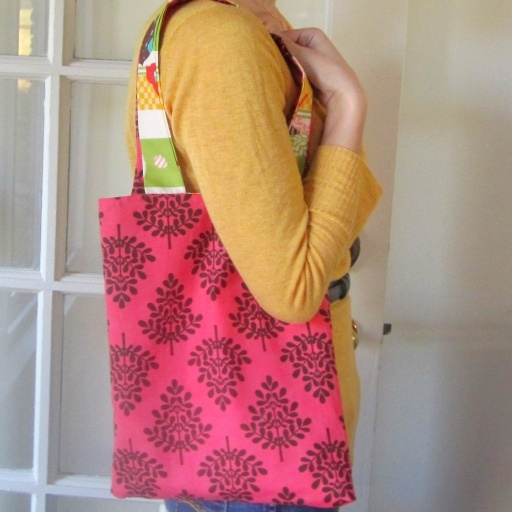hand: (262, 19, 364, 106)
